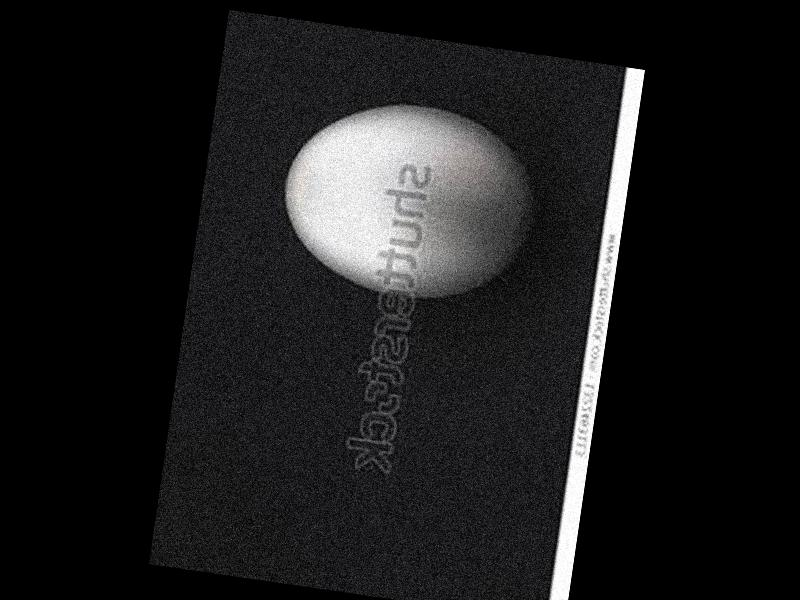Eggs: (270, 86, 543, 308)
